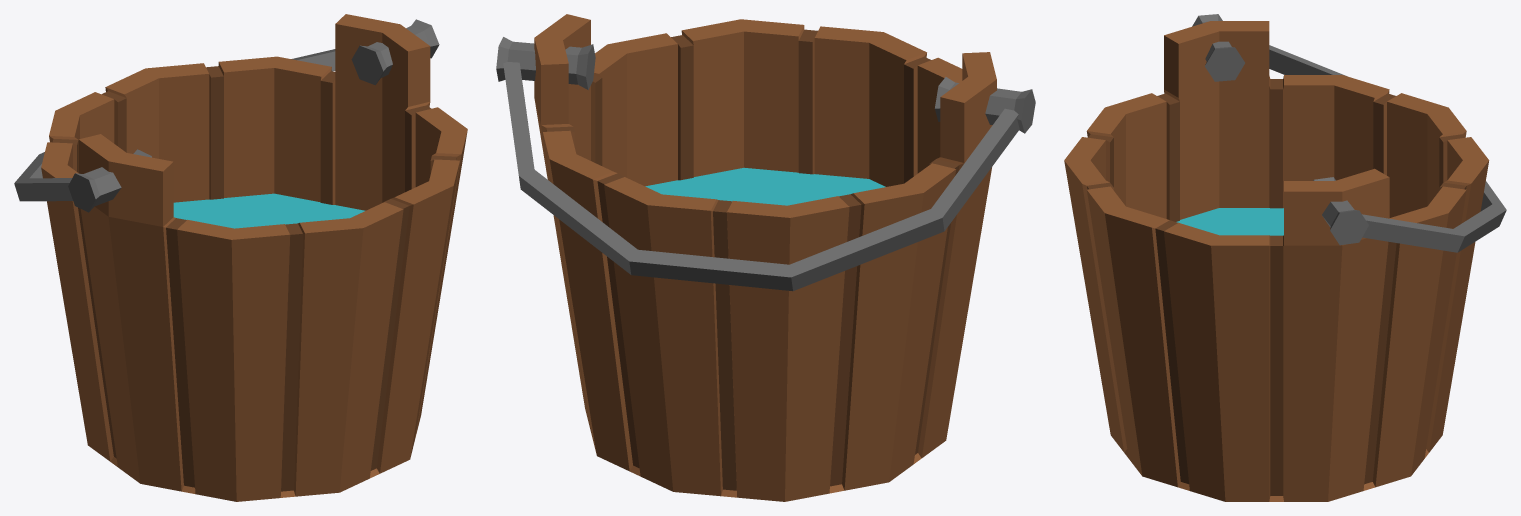
The model's file is bucket.glb.
3 views of the same model, side by side, from view 1: azimuth 30°, elevation 25°; view 2: azimuth 150°, elevation 25°; view 3: azimuth 270°, elevation 25° (orthographic). The views are drawn at different scales.
Parts seen in each view (by area): view 1: Circle, Cylinder.001, Circle.001; view 2: Circle, Circle.001, Cylinder.001; view 3: Circle, Circle.001, Cylinder.001.
Part boxes in pixels (<box>): Circle: <box>41,14,467,501</box>; Cylinder.001: <box>68,19,439,212</box>; Circle.001: <box>14,49,335,201</box>; Circle: <box>534,14,996,501</box>; Circle.001: <box>503,62,1019,291</box>; Cylinder.001: <box>496,37,1035,133</box>; Circle: <box>1064,21,1489,501</box>; Circle.001: <box>1269,45,1506,252</box>; Cylinder.001: <box>1192,14,1368,245</box>.
Size of the model in its own units: 2.87 by 2.19 by 2.67.
